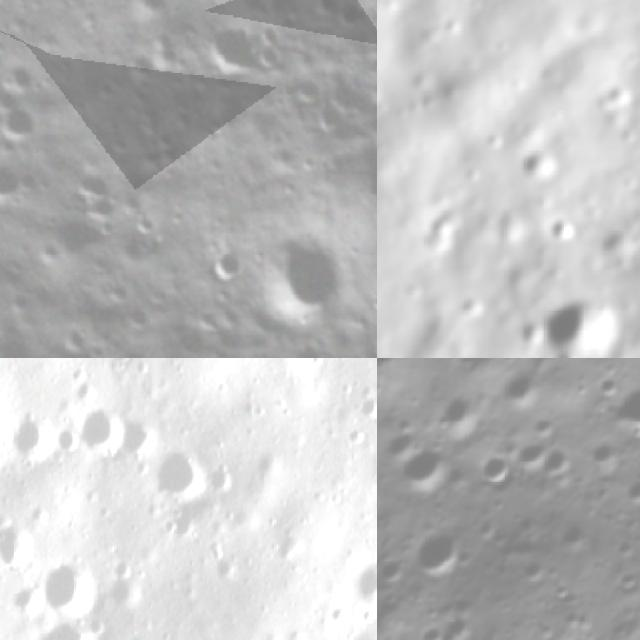crater: (222, 210, 366, 351), (185, 4, 284, 99), (50, 150, 141, 248), (396, 510, 482, 596), (533, 295, 636, 358), (394, 436, 464, 507), (36, 549, 102, 615), (29, 324, 152, 358), (78, 389, 138, 455), (148, 449, 214, 506), (1, 407, 61, 468), (436, 384, 496, 444), (313, 0, 377, 53), (0, 92, 51, 157), (194, 236, 248, 293), (604, 366, 640, 447), (0, 145, 39, 218), (0, 312, 61, 358), (497, 362, 549, 415), (377, 416, 427, 470), (513, 142, 568, 187), (474, 446, 524, 495), (122, 408, 170, 459), (534, 439, 581, 487), (110, 0, 175, 34), (108, 559, 145, 617), (579, 430, 624, 476), (556, 515, 599, 560), (1, 574, 43, 620), (513, 551, 553, 593), (588, 366, 628, 406), (377, 544, 410, 590), (596, 79, 634, 117), (526, 409, 564, 446), (543, 210, 579, 248), (514, 436, 550, 473), (353, 556, 377, 607), (37, 622, 104, 640), (616, 469, 640, 513), (454, 293, 491, 319), (419, 619, 452, 640)
